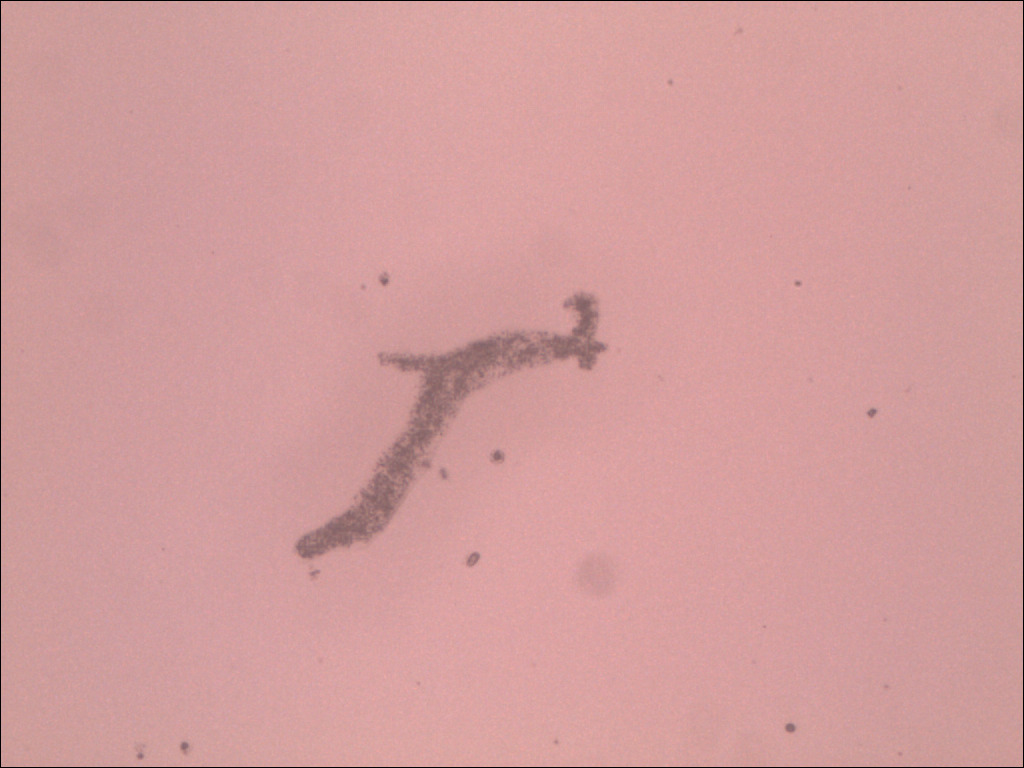amoeba: (288, 287, 632, 576)
